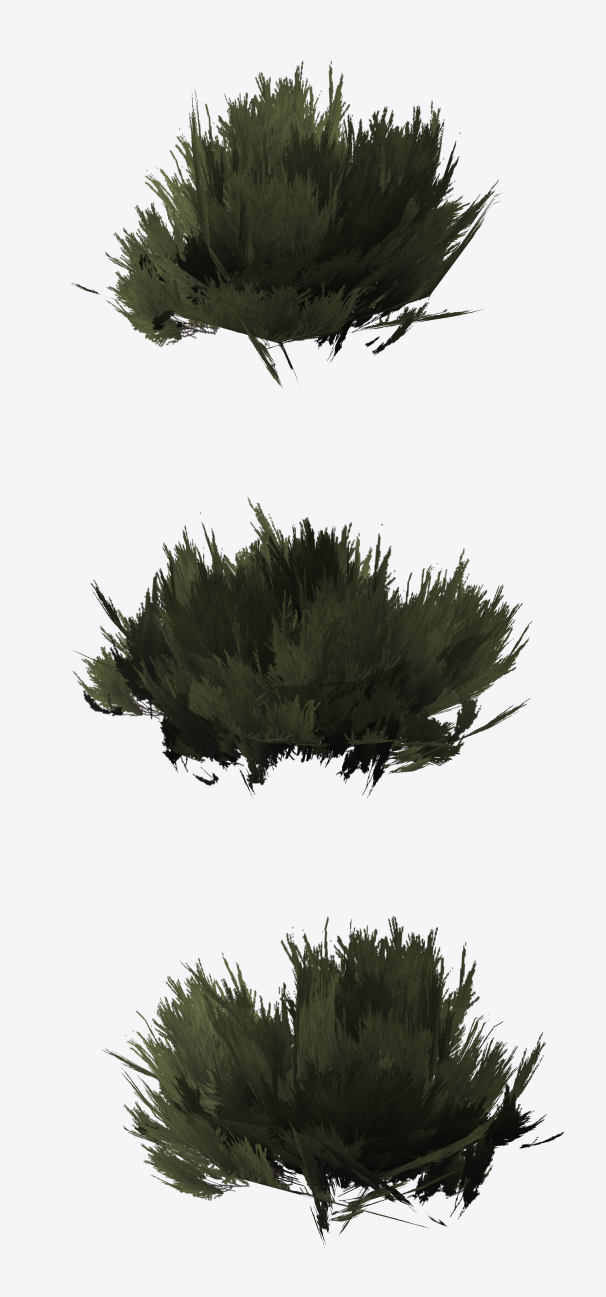
Rendered from Bush_C.glb.
The picture shows the model from 3 angles, top to bottom: view 1: azimuth 30°, elevation 25°; view 2: azimuth 150°, elevation 25°; view 3: azimuth 270°, elevation 25°; orthographic projection. The views are drawn at different scales.
Visible parts, largest first — view 1: BushC_LOD0; view 2: BushC_LOD0; view 3: BushC_LOD0.
Boxes of the visible parts, x1=… form: BushC_LOD0: x1=71, y1=61, x2=500, y2=387; BushC_LOD0: x1=73, y1=497, x2=531, y2=798; BushC_LOD0: x1=102, y1=916, x2=563, y2=1245.
Size of what is drawn, in the model's own units: 2.99 by 1.3 by 2.53.
1 material, 1 textured.
